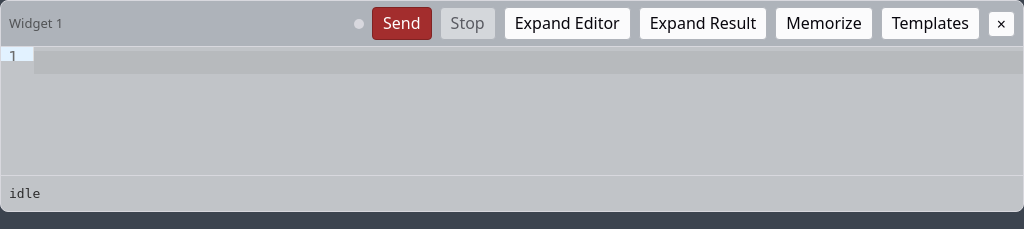
Test: Widget › FEAT-SAVE-WIDGET-FILE: header right-click menu › opens the menu on a header right-click and suppresses the native one
Right-click the element with class "widget-header" at (512, 24), box x1=1 y1=1 x2=1023 y2=47
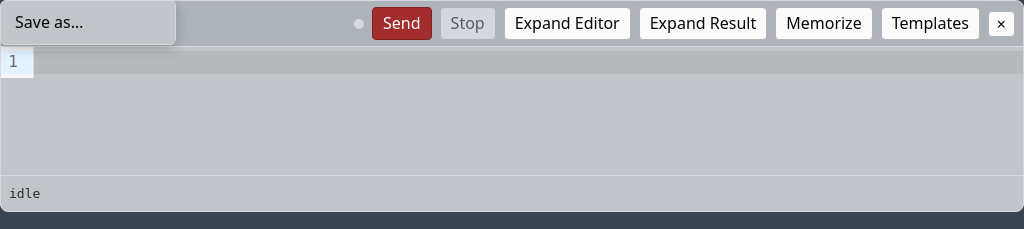
Now the menu with class "widget-context-menu" is shown, box x1=0 y1=0 x2=176 y2=45
